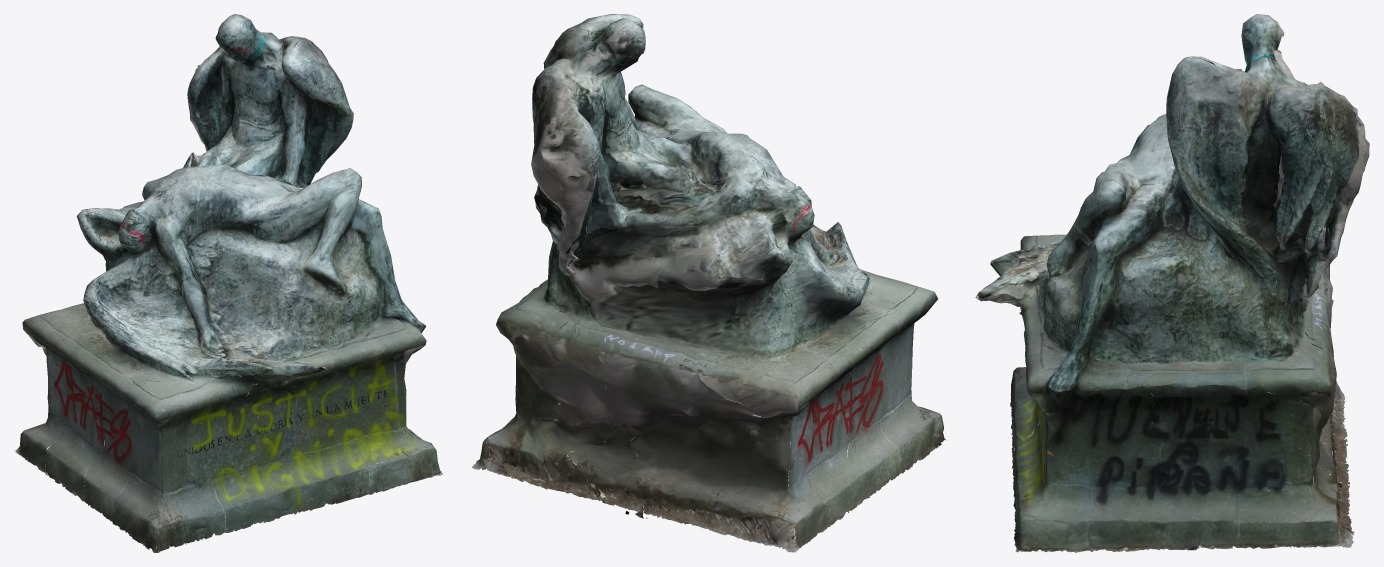
Rendered from dedaloicaro.glb.
3 views of the same model, side by side, from view 1: azimuth 30°, elevation 25°; view 2: azimuth 150°, elevation 25°; view 3: azimuth 270°, elevation 25° (orthographic). The views are drawn at different scales.
Parts seen in each view (by area): view 1: Object_2; view 2: Object_2; view 3: Object_2.
Boxes of the visible parts, bbox=[...] form: Object_2: bbox=[15, 14, 442, 552]; Object_2: bbox=[472, 14, 946, 552]; Object_2: bbox=[975, 14, 1369, 552].
Bounding box in the file's own units: 2.86 × 3.89 × 2.84.
Materials: 1 (1 with a texture image).
